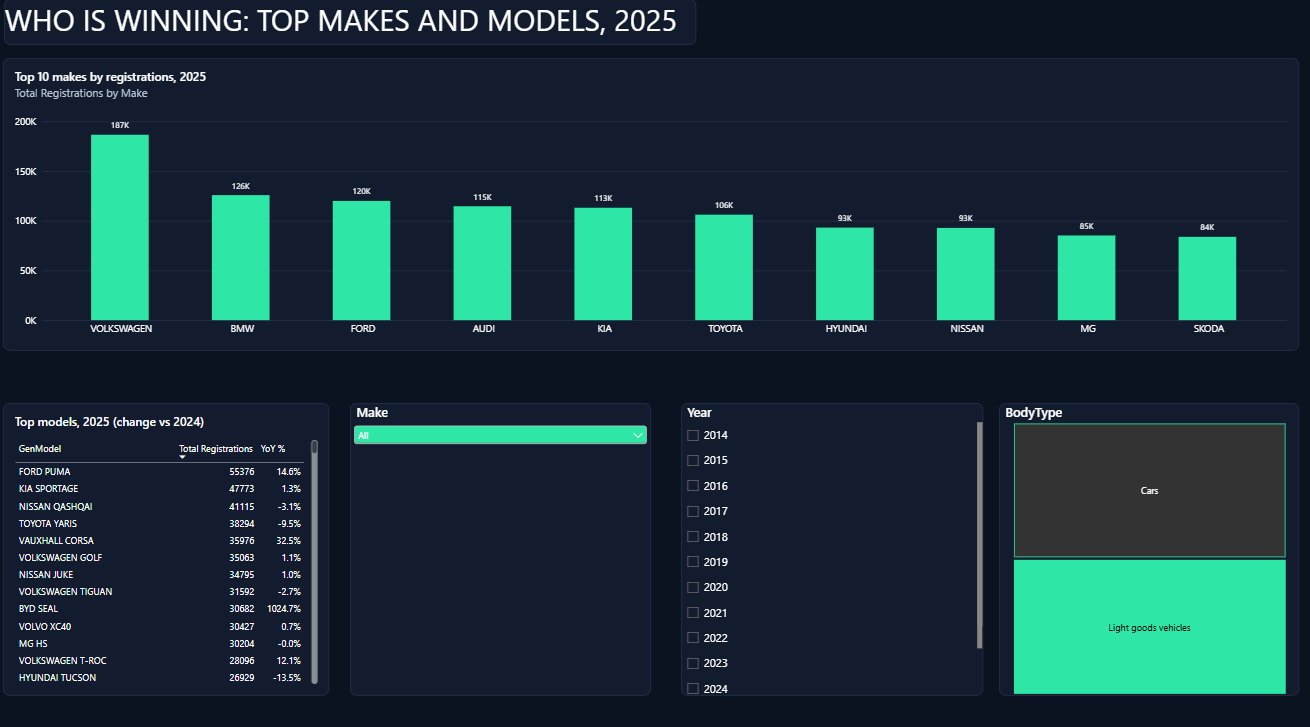

The dashboard page shown, as its layout file describes it:
{"tool":"powerbi","page":{"name":"Who is winning","canvas":[1920,1080],"ordinal":2},"visuals":[{"type":"clusteredColumnChart","title":"Top 10 makes by registrations, 2025","fields":{"Category":["df_VEH0160_UK.Make"],"Y":["df_VEH0160_UK.Total Registrations"]},"box":[8.8,97.8,1890.8,427.5],"z":0},{"type":"tableEx","title":"Top models, 2025 (change vs 2024)","fields":{"Values":["df_VEH0160_UK.GenModel","df_VEH0160_UK.Total Registrations","df_VEH0160_UK.YoY %"]},"box":[8.8,601.1,475.6,427.5],"z":1000},{"type":"slicer","fields":{"Values":["df_VEH0160_UK.Make"]},"box":[515,601.1,439.1,427.5],"z":2000},{"type":"slicer","fields":{"Values":["Date.Date.Variation.Date Hierarchy.Year"]},"box":[997.9,601.1,440.6,427.5],"z":3000},{"type":"slicer","fields":{"Values":["df_VEH0160_UK.BodyType"]},"box":[1461.9,601.1,437.7,427.5],"z":4000},{"type":"textbox","box":[10.2,11.7,1009.6,67.1],"z":5000}]}

Visuals, with their boxes in screenshot pixels (x1, y1, x2, y2), scaled from the page's 1920x1080 canvas onto the 1310x727 screenshot:
"Top 10 makes by registrations, 2025" clusteredColumnChart: pyautogui.locateOnScreen(6, 66, 1296, 354)
"Top models, 2025 (change vs 2024)" tableEx: pyautogui.locateOnScreen(6, 405, 331, 692)
slicer - df_VEH0160_UK.Make: pyautogui.locateOnScreen(351, 405, 651, 692)
slicer - Date.Date.Variation.Date Hierarchy.Year: pyautogui.locateOnScreen(681, 405, 981, 692)
slicer - df_VEH0160_UK.BodyType: pyautogui.locateOnScreen(997, 405, 1296, 692)
textbox: pyautogui.locateOnScreen(7, 8, 696, 53)
